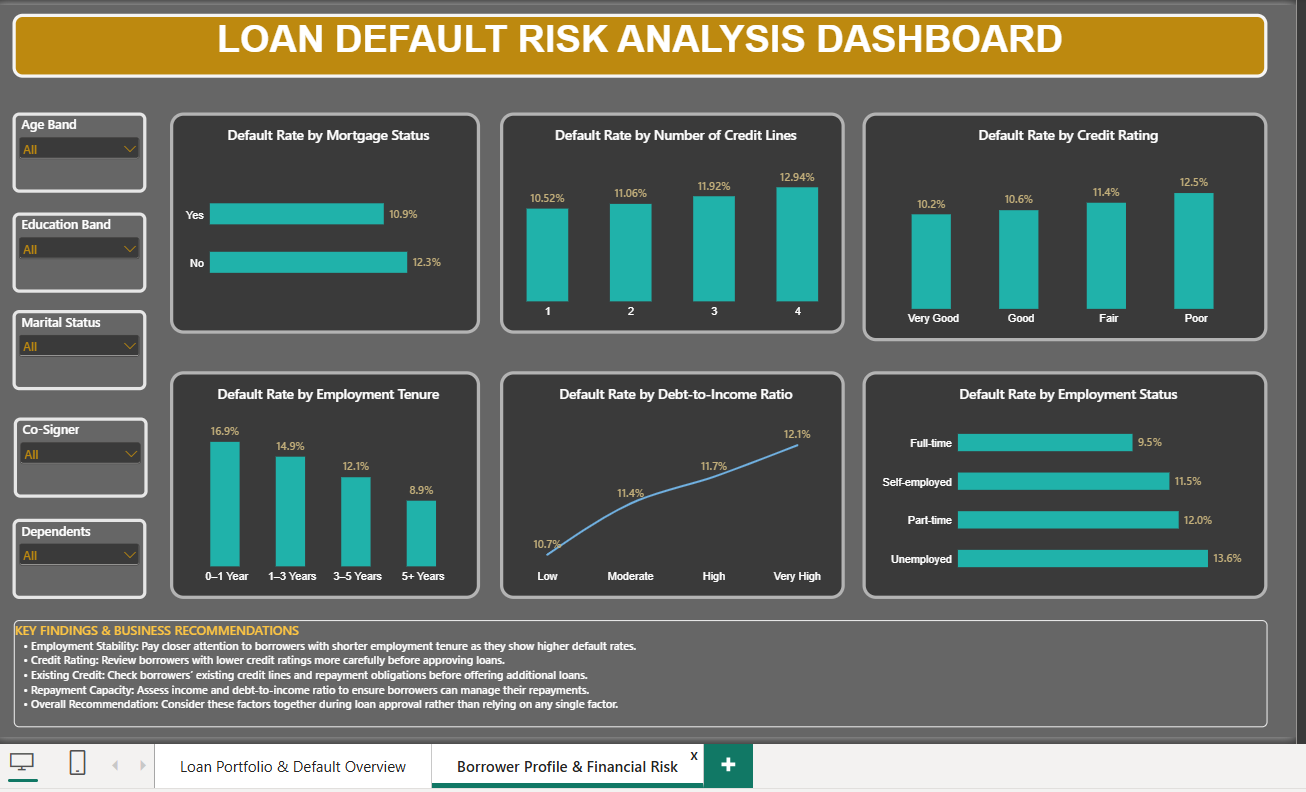

What the dashboard file says about the page in this screenshot:
{"tool":"powerbi","page":{"name":"Borrower Profile & Financial Risk","canvas":[1920,1080],"ordinal":1},"visuals":[{"type":"textbox","box":[25.8,12.9,1852.1,94.1],"z":6000},{"type":"barChart","title":"Default Rate by Mortgage Status","fields":{"Category":["Loan_default.HasMortgage"],"Y":["#Measures.Default Rate"]},"box":[258.3,158.6,457.5,326.5],"z":7000},{"type":"columnChart","title":"Default Rate by Number of Credit Lines","fields":{"Category":["Loan_default.NumCreditLines"],"Y":["#Measures.Default Rate"]},"box":[745.3,158.6,509.1,326.5],"z":10002},{"type":"columnChart","title":"Default Rate by Credit Rating","fields":{"Category":["Loan_default.Credit Score Band"],"Y":["#Measures.Default Rate"]},"box":[1280.2,158.6,597.7,337.6],"z":10004},{"type":"lineChart","title":"Default Rate by Debt-to-Income Ratio","fields":{"Category":["Loan_default.DTI Band"],"Y":["#Measures.Default Rate"]},"box":[745.3,540.5,509.1,335.7],"z":10006},{"type":"clusteredBarChart","title":"Default Rate by Employment Status","fields":{"Category":["Loan_default.EmploymentType"],"Y":["#Measures.Default Rate"]},"box":[1280.2,540.5,597.7,335.7],"z":10007},{"type":"columnChart","title":"Default Rate by Employment Tenure","fields":{"Category":["Loan_default.Employment Tenure Band"],"Y":["#Measures.Default Rate"]},"box":[258.3,540.5,457.5,335.7],"z":10008},{"type":"slicer","fields":{"Values":["Loan_default.Age Band"]},"box":[25.8,158.6,197.4,118.1],"z":10010},{"type":"textbox","box":[27.7,907.6,1850.3,158.6],"z":10014},{"type":"slicer","fields":{"Values":["Loan_default.Education Band"]},"box":[25.8,306.2,197.4,118.1],"z":10015},{"type":"slicer","fields":{"Values":["Loan_default.MaritalStatus"]},"box":[25.8,450.1,197.4,118.1],"z":10016},{"type":"slicer","fields":{"Values":["Loan_default.HasCoSigner"]},"box":[27.7,608.8,197.4,118.1],"z":10017},{"type":"slicer","fields":{"Values":["Loan_default.HasDependents"]},"box":[25.8,758.2,197.4,118.1],"z":10018}]}

Visuals, with their boxes in screenshot pixels (x1, y1, x2, y2):
textbox: pyautogui.locateOnScreen(14, 12, 1256, 75)
"Default Rate by Mortgage Status" barChart: pyautogui.locateOnScreen(170, 110, 477, 329)
"Default Rate by Number of Credit Lines" columnChart: pyautogui.locateOnScreen(497, 110, 838, 329)
"Default Rate by Credit Rating" columnChart: pyautogui.locateOnScreen(855, 110, 1256, 336)
"Default Rate by Debt-to-Income Ratio" lineChart: pyautogui.locateOnScreen(497, 366, 838, 591)
"Default Rate by Employment Status" clusteredBarChart: pyautogui.locateOnScreen(855, 366, 1256, 591)
"Default Rate by Employment Tenure" columnChart: pyautogui.locateOnScreen(170, 366, 477, 591)
slicer - Loan_default.Age Band: pyautogui.locateOnScreen(14, 110, 146, 189)
textbox: pyautogui.locateOnScreen(15, 612, 1256, 719)
slicer - Loan_default.Education Band: pyautogui.locateOnScreen(14, 209, 146, 288)
slicer - Loan_default.MaritalStatus: pyautogui.locateOnScreen(14, 305, 146, 385)
slicer - Loan_default.HasCoSigner: pyautogui.locateOnScreen(15, 412, 148, 491)
slicer - Loan_default.HasDependents: pyautogui.locateOnScreen(14, 512, 146, 591)
